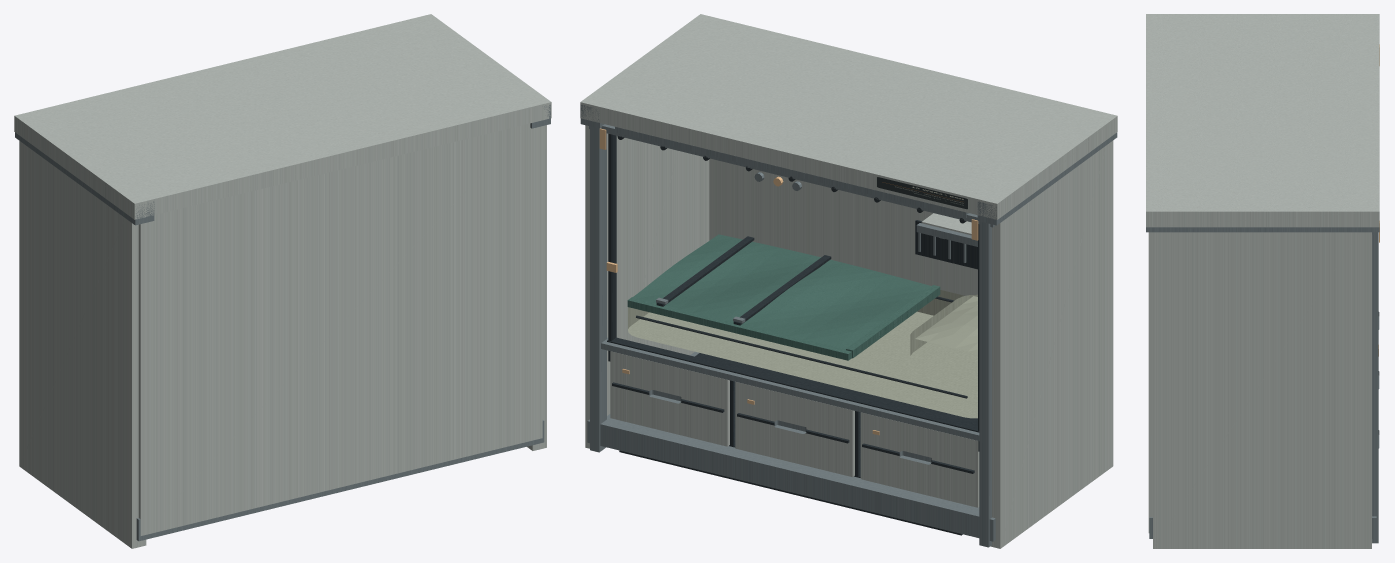
File: crew_bunk_optimised.glb
3 renders of one model, left to right at view 1: azimuth 30°, elevation 25°; view 2: azimuth 150°, elevation 25°; view 3: azimuth 270°, elevation 25°, orthographic. The views are drawn at different scales.
Visible parts, largest first — view 1: Static_Architecture__composite, Static_Architecture__metal; view 2: Static_Architecture__composite, Static_Architecture__metal, Blanket__duvet, Mattress__mattress, Static_Architecture__trim, Drawer_02_Moveable__composite, Drawer_03_Moveable__composite, Drawer_01_Moveable__composite, Mattress__trim, Static_Architecture__decal; view 3: Static_Architecture__composite, Static_Architecture__metal.
Boxes of the visible parts, x1,y1,x2,y2 form: Static_Architecture__composite: [14, 14, 551, 548]; Static_Architecture__metal: [15, 104, 550, 541]; Static_Architecture__composite: [580, 14, 1117, 548]; Static_Architecture__metal: [580, 104, 1117, 547]; Blanket__duvet: [627, 234, 940, 360]; Mattress__mattress: [628, 290, 977, 418]; Static_Architecture__trim: [607, 134, 979, 535]; Drawer_02_Moveable__composite: [735, 381, 854, 477]; Drawer_03_Moveable__composite: [610, 351, 729, 446]; Drawer_01_Moveable__composite: [860, 412, 979, 507]; Mattress__trim: [636, 296, 967, 398]; Static_Architecture__decal: [877, 177, 967, 209]; Static_Architecture__composite: [1146, 14, 1379, 548]; Static_Architecture__metal: [1146, 227, 1379, 543].
Bounding box in the file's own units: 2.22 × 1.77 × 1.12.
9 materials, 7 textured.
